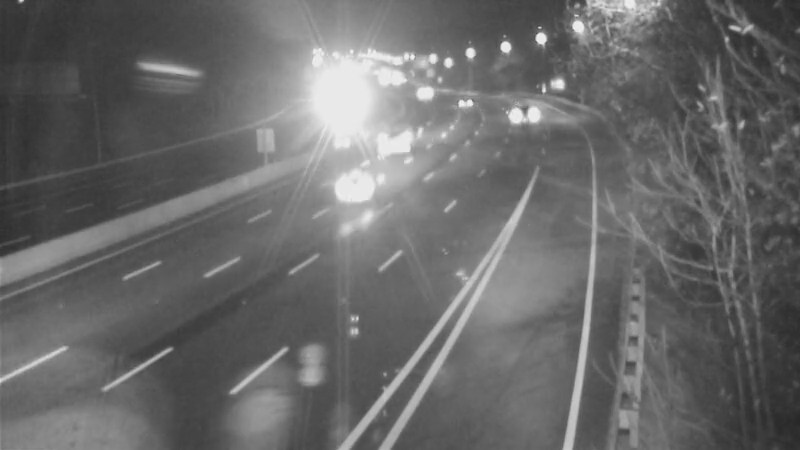vehicle: (317, 144, 397, 224), (391, 67, 441, 117), (440, 80, 490, 130), (496, 89, 546, 139), (362, 112, 412, 162), (315, 93, 365, 143)
